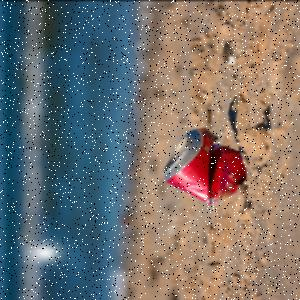Can: (163, 128, 247, 206)
